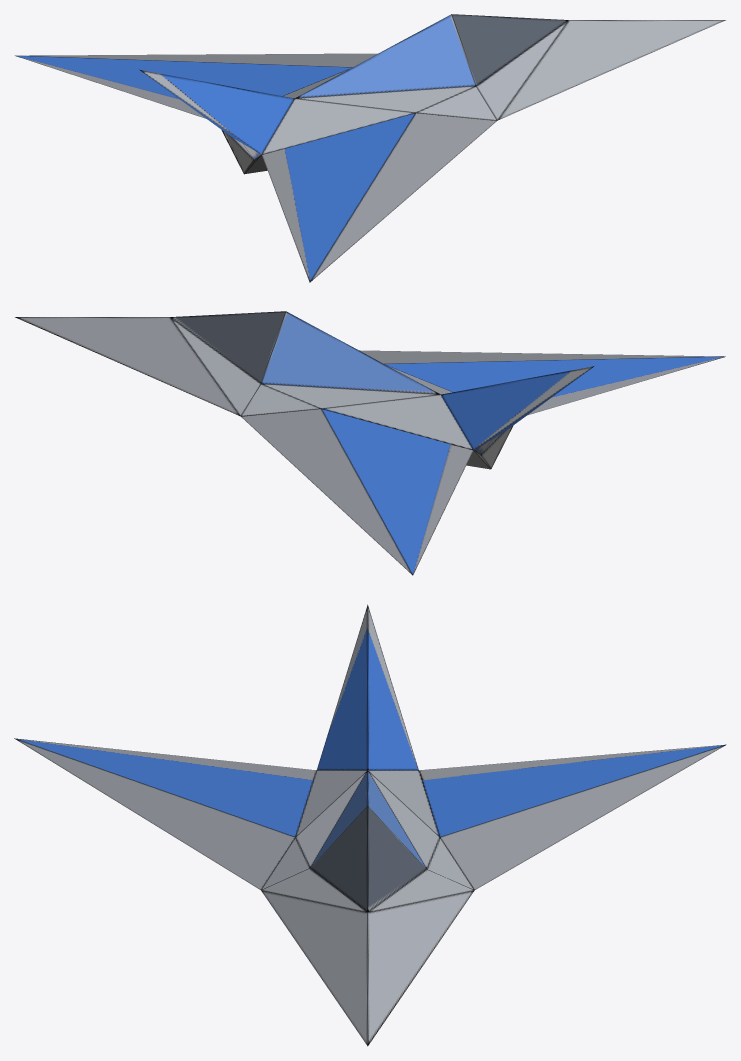
The model's file is player_ship.fbx.
3 views of the same model, one above another, from view 1: azimuth 30°, elevation 25°; view 2: azimuth 150°, elevation 25°; view 3: azimuth 270°, elevation 25° (orthographic). The views are drawn at different scales.
Visible parts, largest first — view 1: PlayerShip; view 2: PlayerShip; view 3: PlayerShip.
Part boxes in pixels (x1,y1,x2,y2): PlayerShip: (15,14,725,282); PlayerShip: (15,311,725,575); PlayerShip: (14,604,726,1046).
Size of the model in its own units: 773 by 175 by 698.
1 material, 1 textured.
